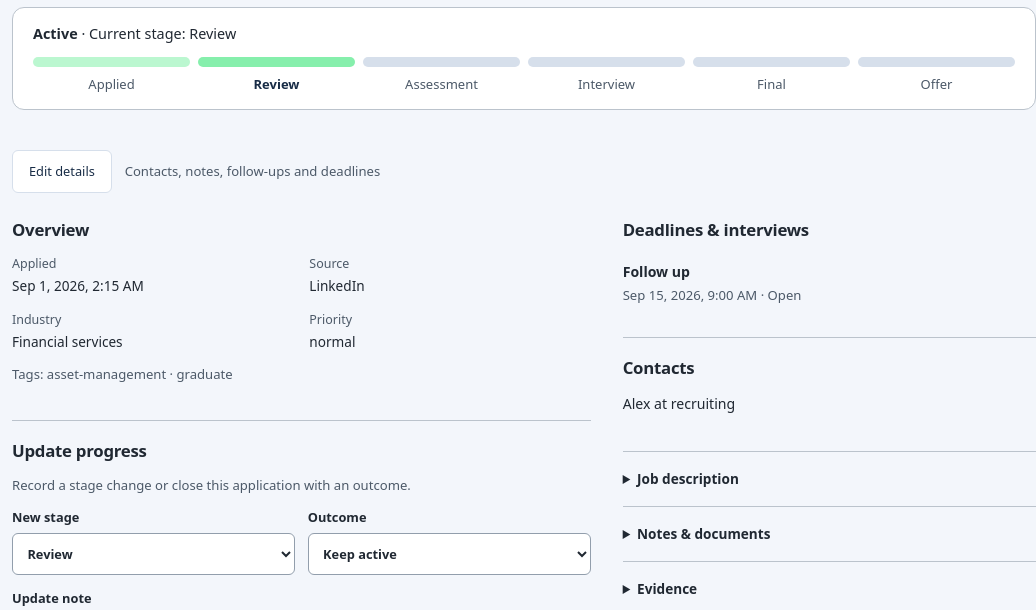
Test: records a manual stage event and exposes undo
Select "Interview" in the dropdown labelled "New stage" at (153, 554), box [12, 533, 295, 575]
(page scrolled)
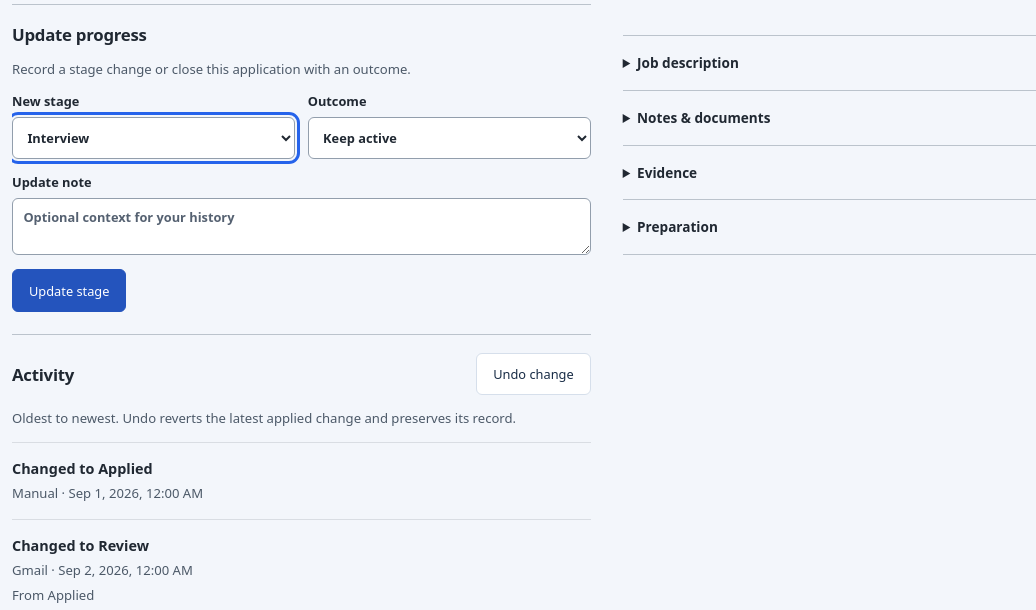
Type "Recruiter confirmed the interview." into the text box labelled "Update note" at (301, 226), box [12, 198, 591, 255]
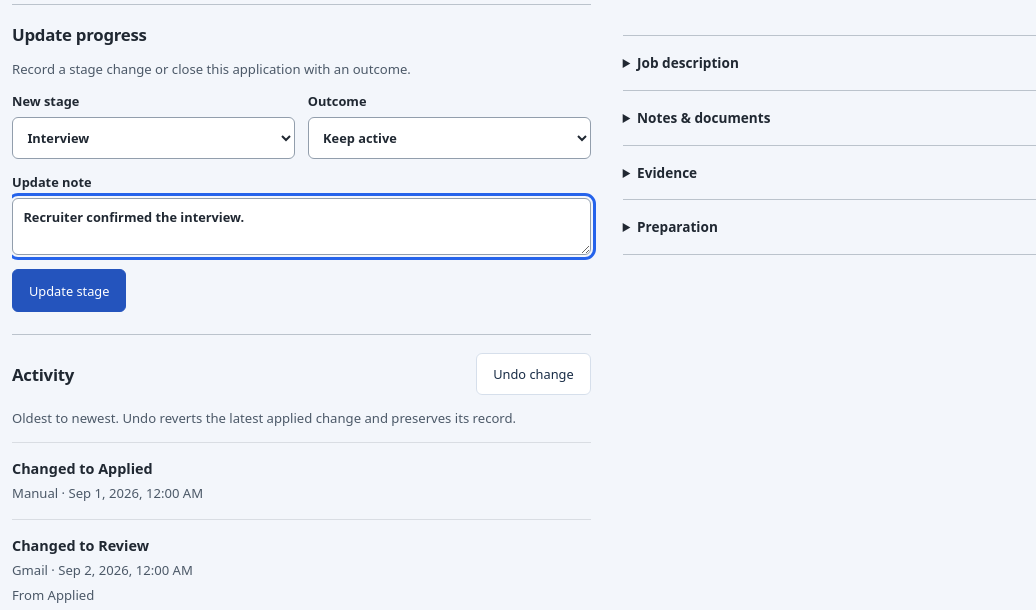
Click the button "Update stage" at (69, 291), box [12, 270, 126, 312]
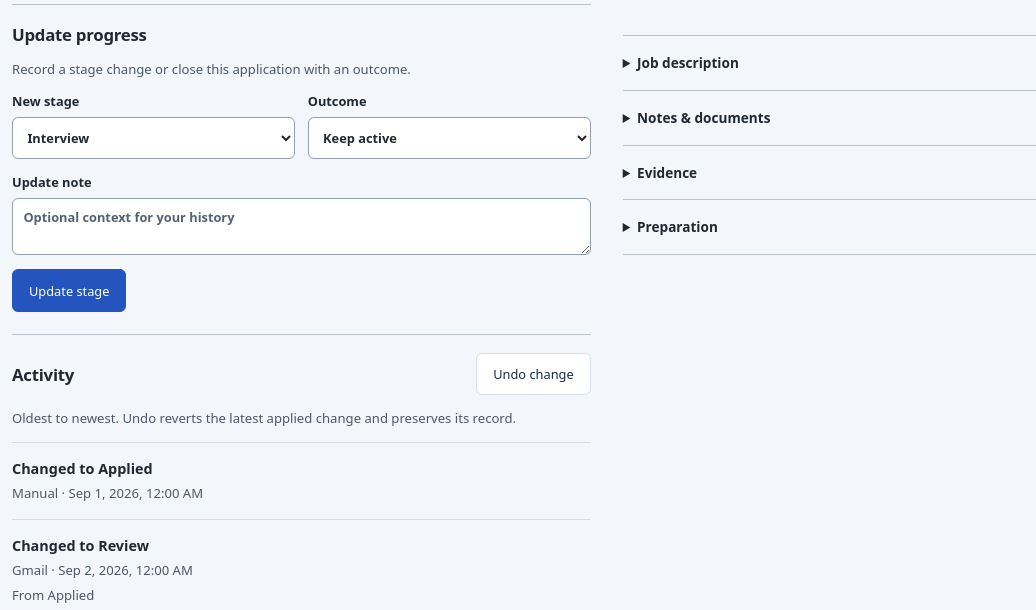
Click the button "Undo change" at (533, 374), box [476, 353, 591, 395]
(page scrolled)
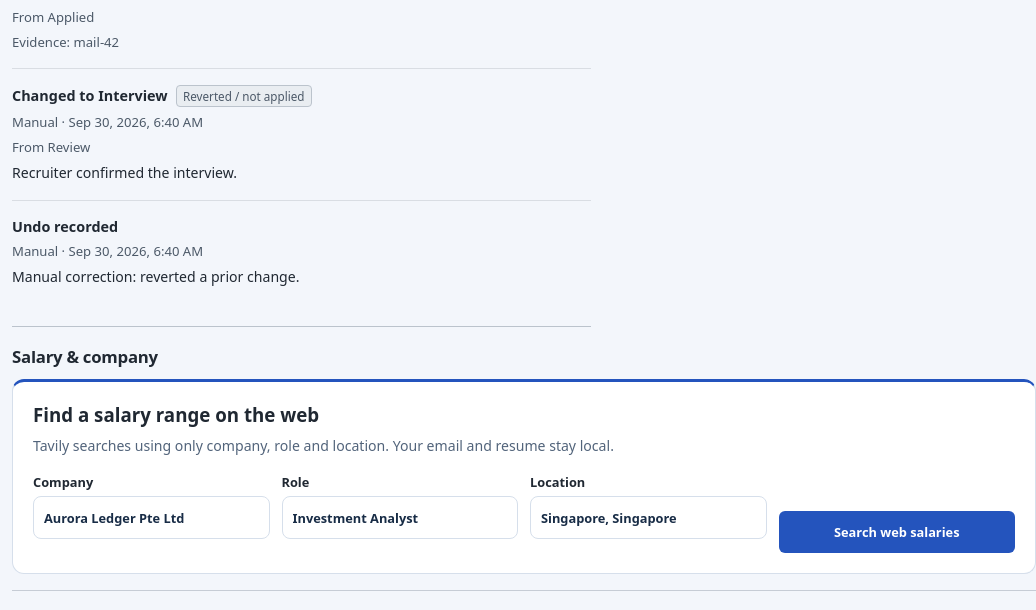
Check: the list item "Changed to Interview" shows "Reverted", box [183, 89, 304, 104]
Check: the text "Undo recorded" is shown, box [12, 217, 118, 236]
